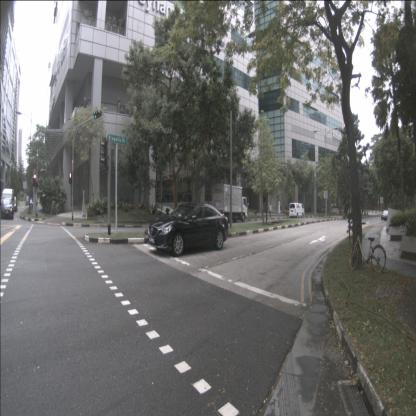human-pedestrian-adult: (269, 203, 272, 219), (156, 190, 159, 202)
vehicle-bicycle: (349, 222, 386, 273)
vehicle-car: (148, 202, 228, 256), (0, 198, 14, 220), (2, 189, 14, 214), (289, 203, 305, 218), (8, 196, 17, 212), (381, 210, 392, 221), (26, 196, 34, 206)
vehicle-truck: (211, 184, 248, 222)
